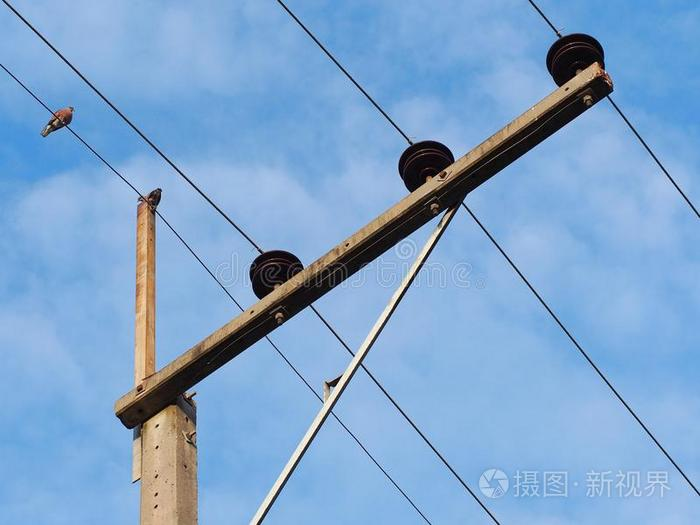insulator: (547, 33, 605, 80), (247, 250, 302, 298), (398, 141, 451, 190)
